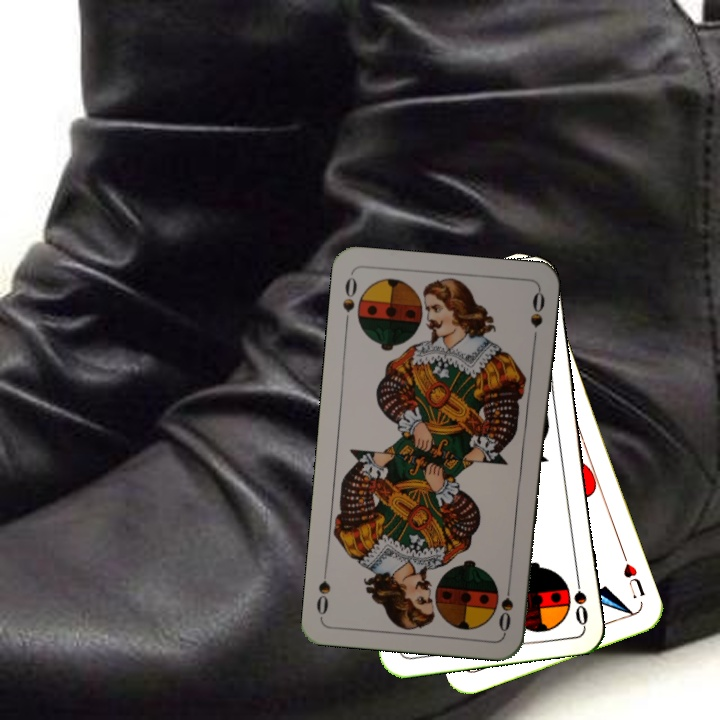HU: (618, 549, 648, 601)
SO: (569, 568, 591, 628), (494, 575, 516, 634), (338, 273, 360, 330)
